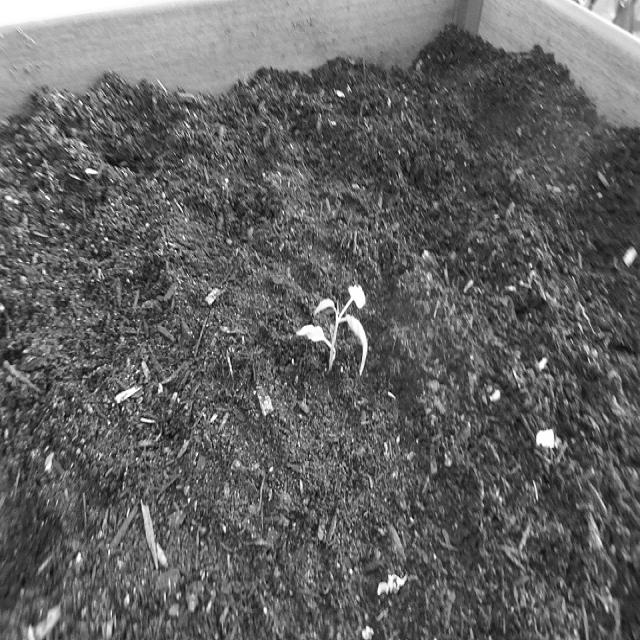Healthy: (294, 263, 377, 397)
